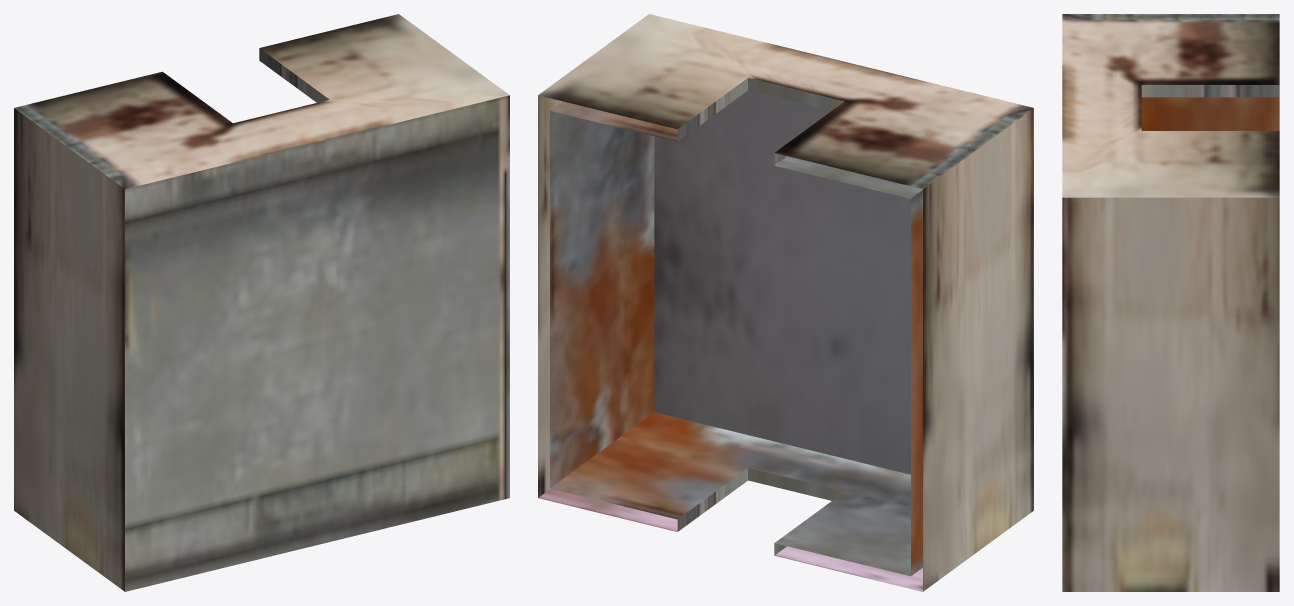
File: 4x4NS_pinkandtan_wtf.obj
3 views of the same model, side by side, from view 1: azimuth 30°, elevation 25°; view 2: azimuth 150°, elevation 25°; view 3: azimuth 270°, elevation 25° (orthographic). The views are drawn at different scales.
Visible parts, largest first — view 1: group3; view 2: group3; view 3: group3.
Boxes of the visible parts, x1,y1,x2,y2 form: group3: (14,14,509,591); group3: (538,14,1033,591); group3: (1062,14,1279,591).
Bounding box in the file's own units: 660 × 660 × 330.
